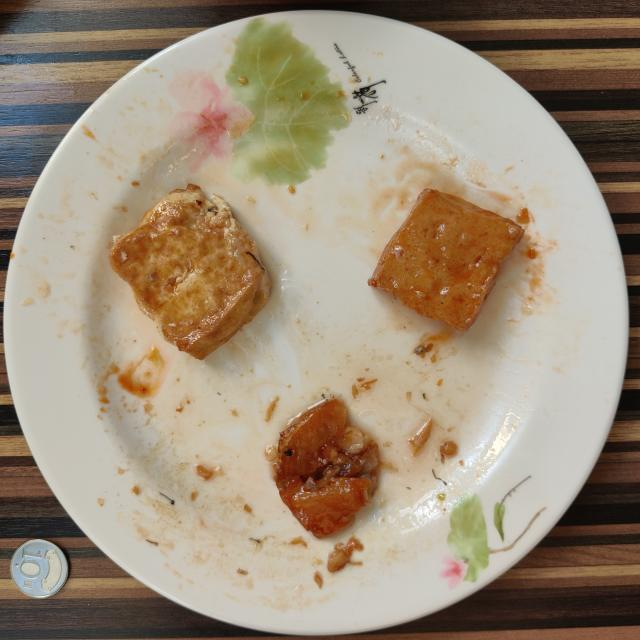Kabayaki sea bream fillet: (276, 398, 379, 538)
coin: (10, 539, 69, 598)
creamy tofu: (369, 189, 524, 331)
